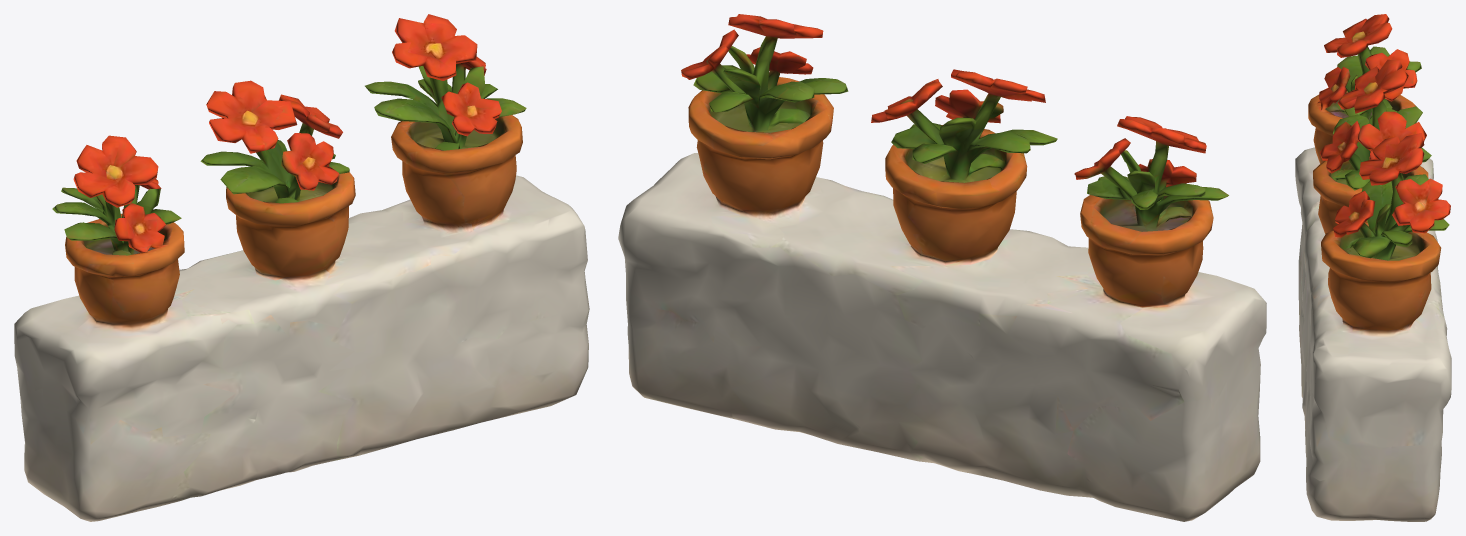
File: whitewall.glb
3 views of the same model, side by side, from view 1: azimuth 30°, elevation 25°; view 2: azimuth 150°, elevation 25°; view 3: azimuth 270°, elevation 25° (orthographic). The views are drawn at different scales.
Visible parts, largest first — view 1: tripo_node_35e029e9-1019-4f49-a76e-b1280f1aa798; view 2: tripo_node_35e029e9-1019-4f49-a76e-b1280f1aa798; view 3: tripo_node_35e029e9-1019-4f49-a76e-b1280f1aa798.
Part boxes in pixels (x1,y1,x2,y2): tripo_node_35e029e9-1019-4f49-a76e-b1280f1aa798: [14, 14, 589, 521]; tripo_node_35e029e9-1019-4f49-a76e-b1280f1aa798: [618, 14, 1266, 521]; tripo_node_35e029e9-1019-4f49-a76e-b1280f1aa798: [1295, 14, 1451, 521].
Bounding box in the file's own units: 1 × 0.6813 × 0.2846.
1 material, 1 textured.
